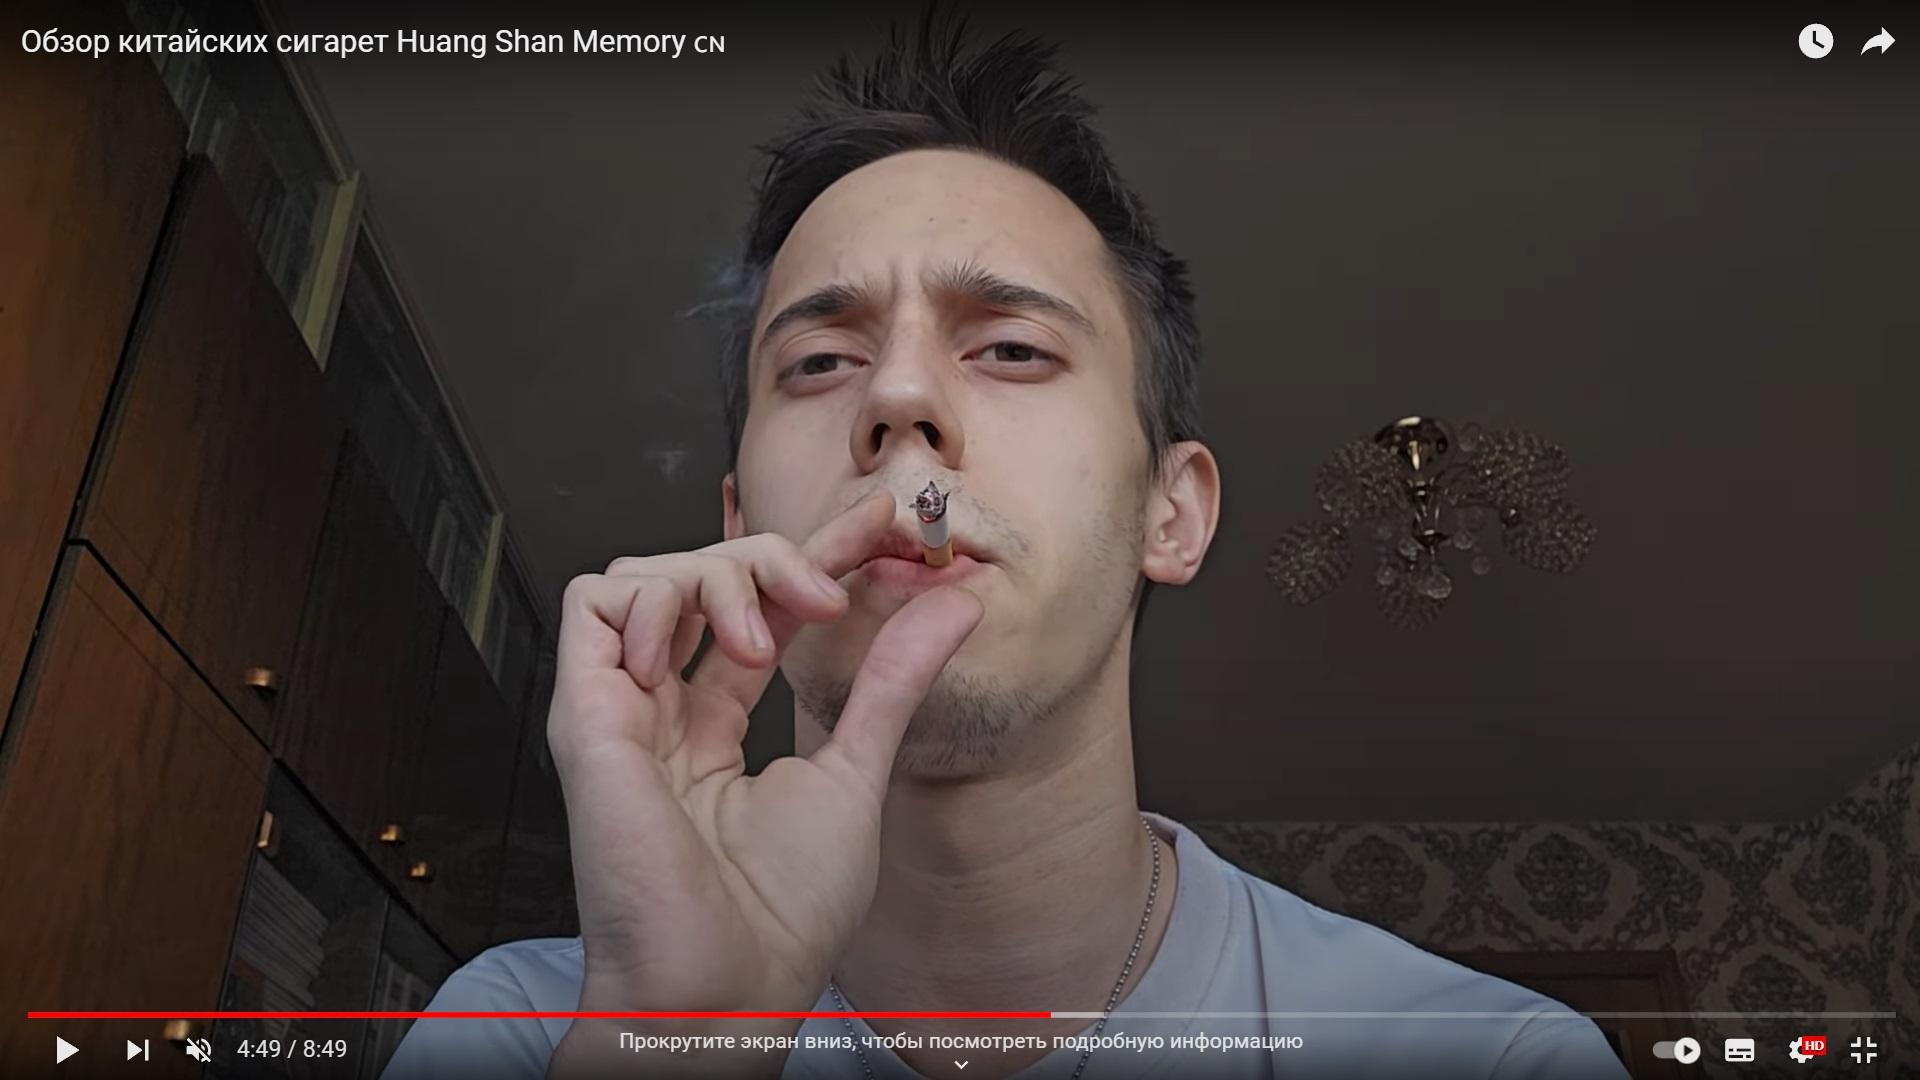cigarette: (911, 480, 952, 564)
